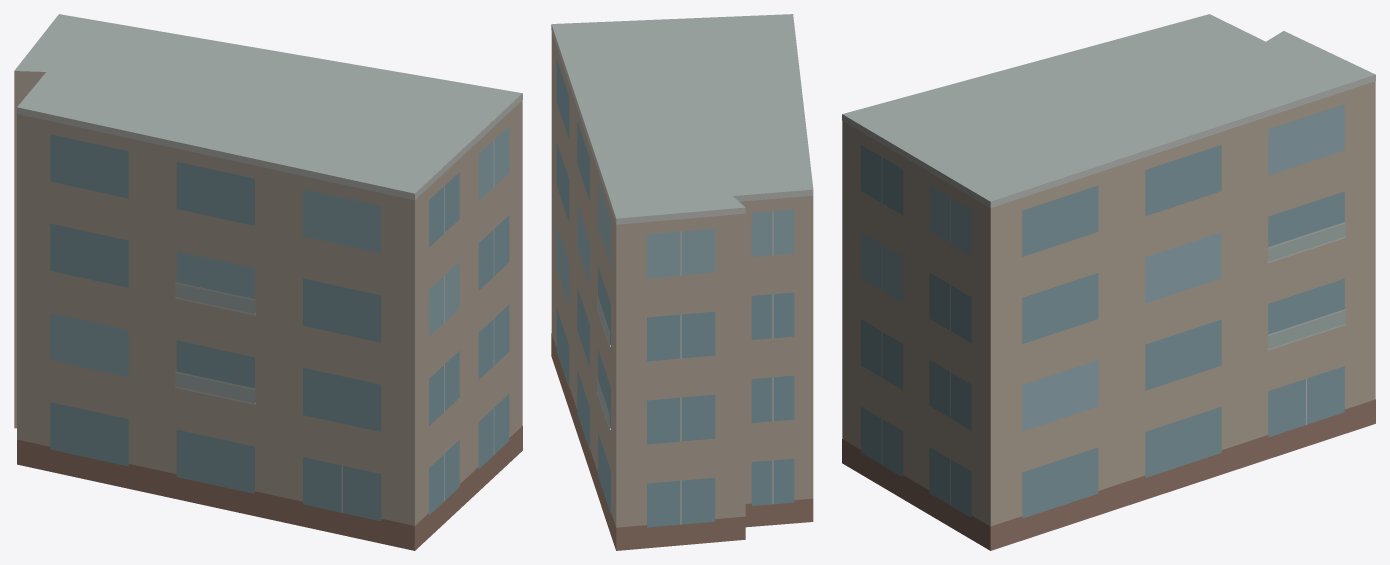
File: survey-upis-32952911.glb
3 views of the same model, side by side, from view 1: azimuth 30°, elevation 25°; view 2: azimuth 150°, elevation 25°; view 3: azimuth 270°, elevation 25° (orthographic). The views are drawn at different scales.
Visible parts, largest first — view 1: survey-upis-32952911.tmp; view 2: survey-upis-32952911.tmp; view 3: survey-upis-32952911.tmp.
Part boxes in pixels (box(x1,y1,x2,y2)): survey-upis-32952911.tmp: box(14, 14, 522, 550); survey-upis-32952911.tmp: box(551, 14, 813, 550); survey-upis-32952911.tmp: box(842, 14, 1375, 550).
Size of the model in its own units: 15.23 by 13.2 by 18.3.
